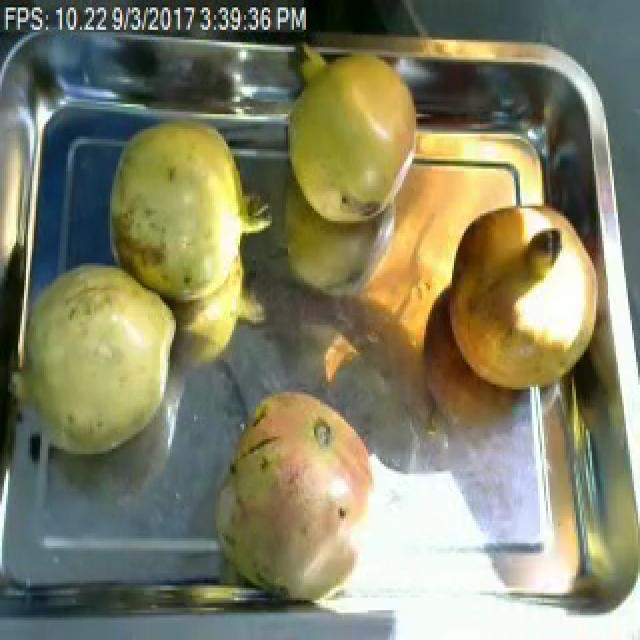fruit: (200, 374, 396, 618), (2, 250, 188, 467), (100, 112, 282, 315), (438, 193, 606, 407), (276, 37, 426, 241)
